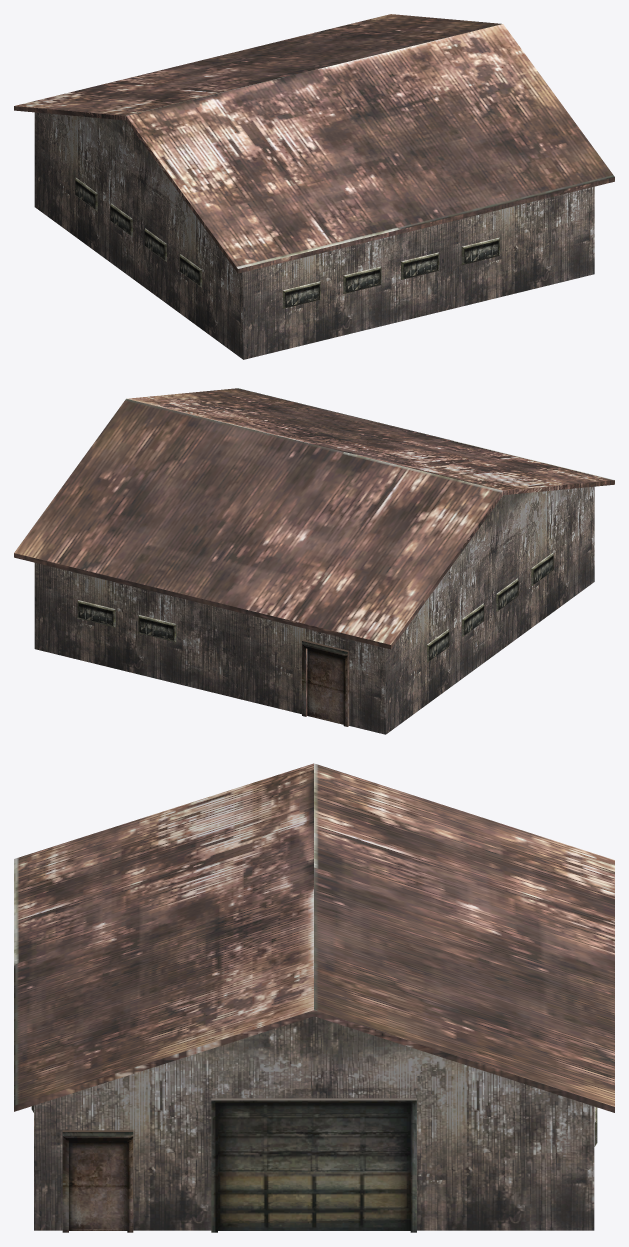
Rendered from warehs11.glb.
The picture shows the model from 3 angles, top to bottom: view 1: azimuth 30°, elevation 25°; view 2: azimuth 150°, elevation 25°; view 3: azimuth 270°, elevation 25°; orthographic projection. The views are drawn at different scales.
Parts seen in each view (by area): view 1: _warehs11; view 2: _warehs11; view 3: _warehs11.
Part boxes in pixels (bbox=[...]): _warehs11: bbox=[14, 14, 614, 359]; _warehs11: bbox=[14, 388, 614, 734]; _warehs11: bbox=[14, 763, 614, 1232].
Size of the model in its own units: 15.3 by 6.62 by 15.75.
Materials: 1 (1 with a texture image).
